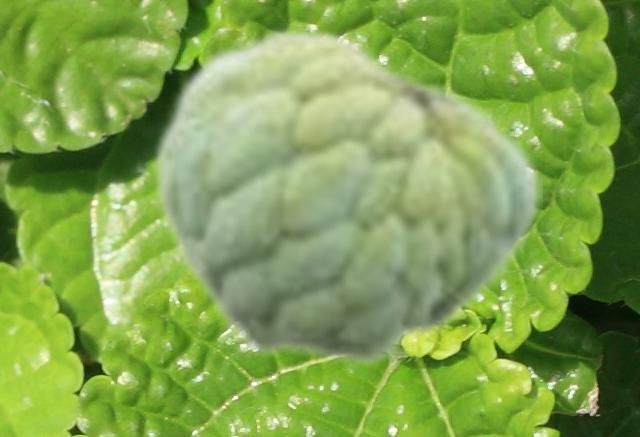atis: (149, 23, 541, 370)
